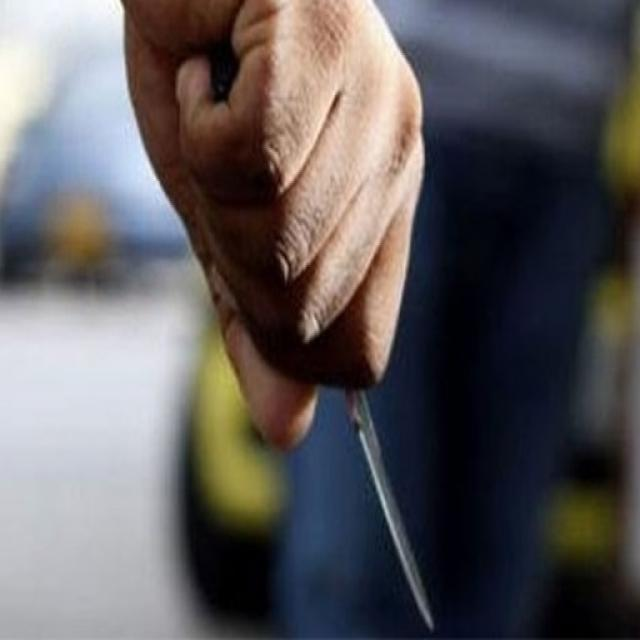knife: (349, 394, 442, 632)
